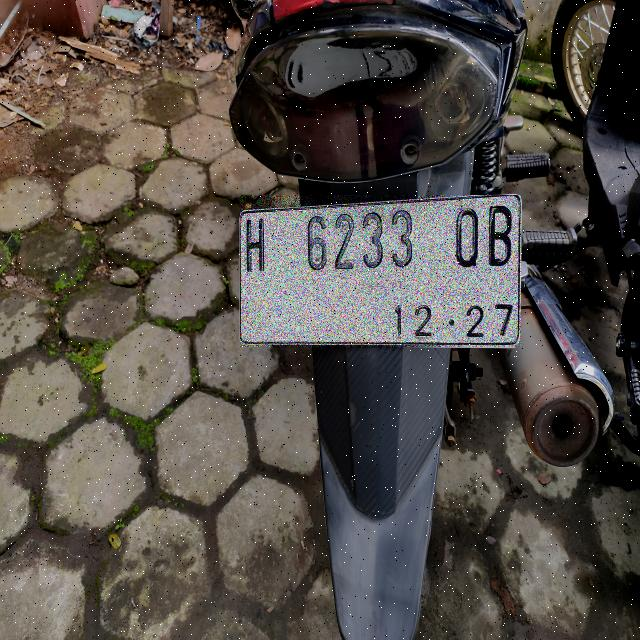plate: (240, 195, 520, 345)
